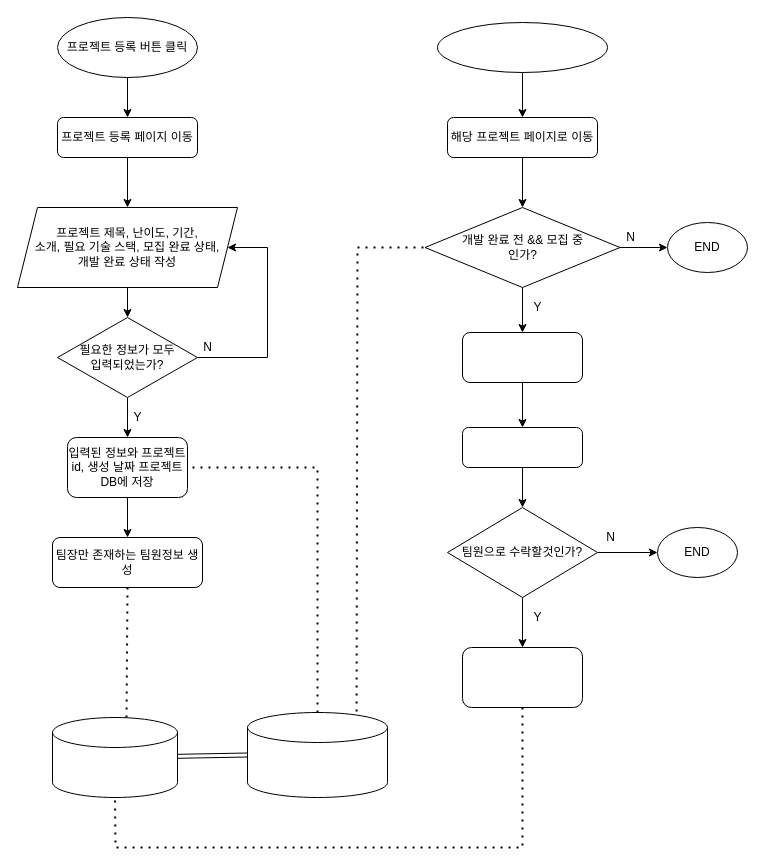
This 765x867 diagram has some shape labels left out. Each missing label, with the centre of its shape:
"'팀장에게 쪽지보내기' 버튼 활성화" belongs at (x=522, y=357).
"참여하려는 프로젝트 페이지 클릭" belongs at (x=522, y=47).
"팀원 정보 DB" belongs at (x=115, y=757).
"팀장과 연락" belongs at (x=522, y=447).
"팀장이 팀원 정보에 팀원 추가" belongs at (x=522, y=677).
"프로젝트 DB" belongs at (x=317, y=755).
